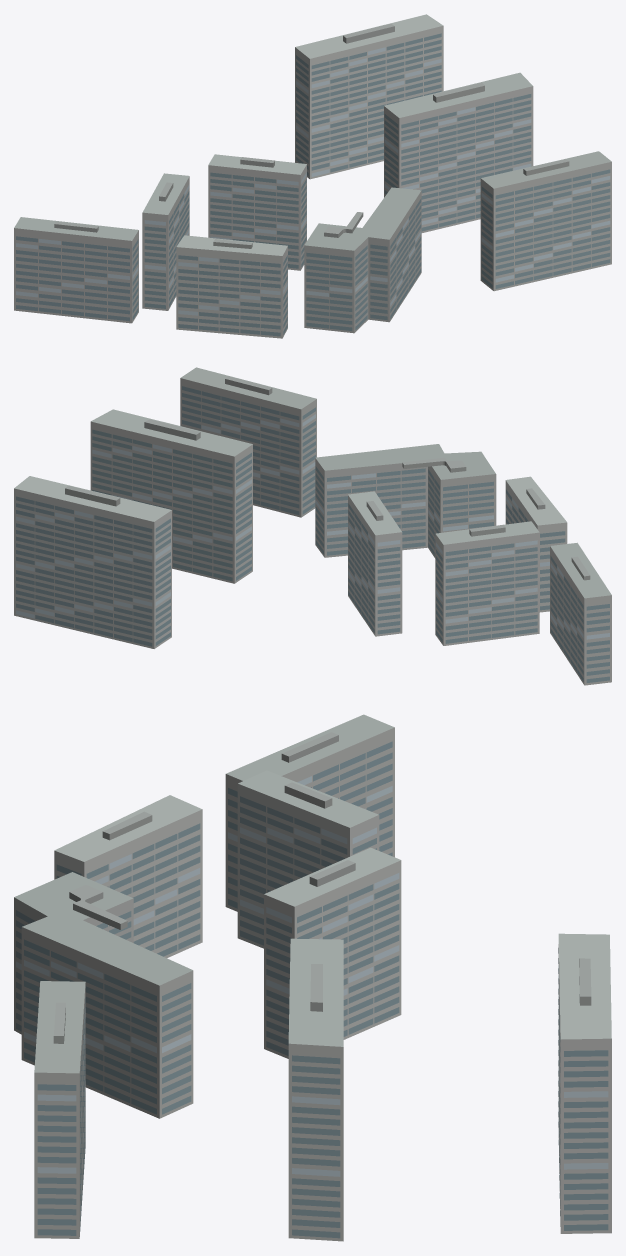
Rendered from apt-a15213001.glb.
3 views of the same model, one above another, from view 1: azimuth 30°, elevation 25°; view 2: azimuth 150°, elevation 25°; view 3: azimuth 270°, elevation 25° (orthographic). The views are drawn at different scales.
Visible parts, largest first — view 1: apt-a15213001; view 2: apt-a15213001; view 3: apt-a15213001.
Boxes of the visible parts, x1,y1,x2,y2 form: apt-a15213001: (14,14,611,338); apt-a15213001: (14,367,611,685); apt-a15213001: (14,714,611,1241).
Size of the model in its own units: 224 by 54 by 144.
